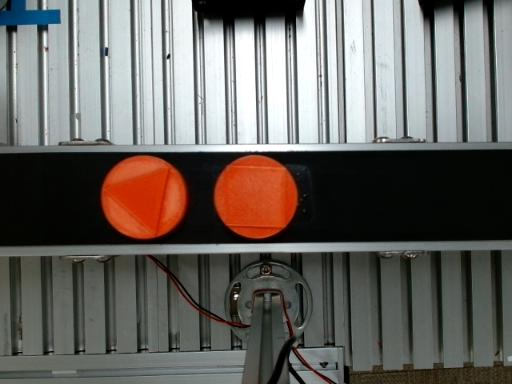Not_Square: (102, 168, 171, 235)
Orange_Waper: (102, 156, 187, 238), (215, 155, 298, 238)
Square: (225, 166, 288, 227)
